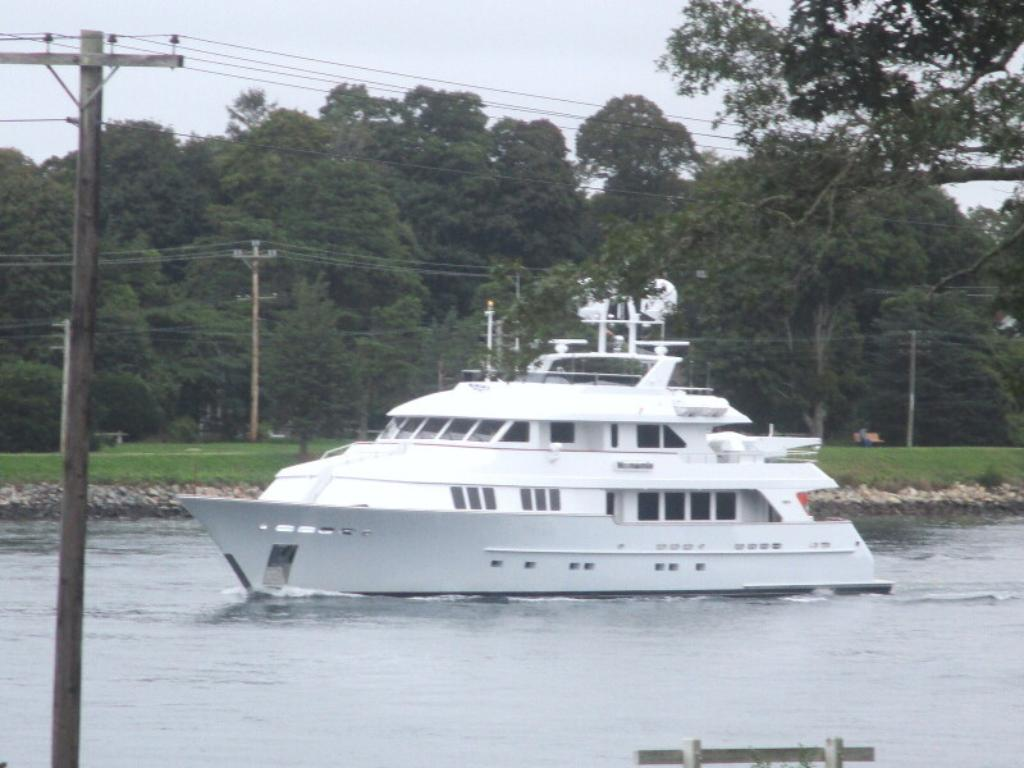PassengerShip: (174, 272, 902, 604)
